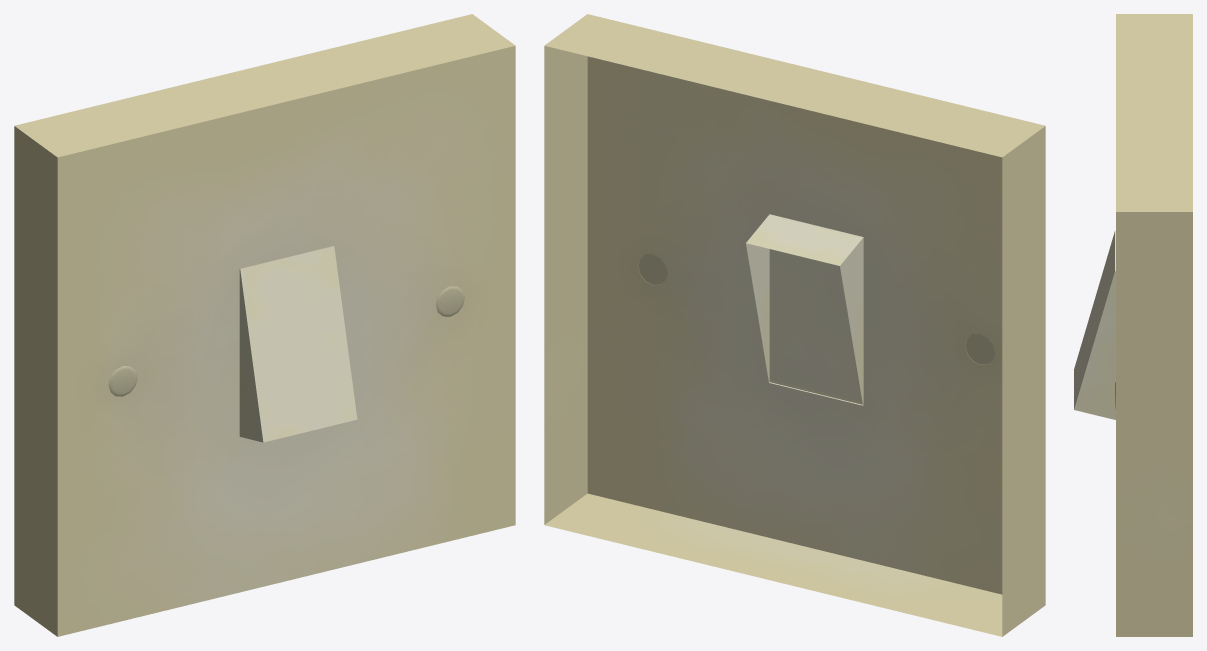
The model's file is light_switch.FBX.
The picture shows the model from 3 angles, left to right: view 1: azimuth 30°, elevation 25°; view 2: azimuth 150°, elevation 25°; view 3: azimuth 270°, elevation 25°; orthographic projection. The views are drawn at different scales.
Parts seen in each view (by area): view 1: light_switch, Object030; view 2: light_switch, Object030; view 3: light_switch, Object030.
Part boxes in pixels (left/top/right/bottom): light_switch: left=14, top=14, right=515, bottom=636; Object030: left=239, top=246, right=357, bottom=442; light_switch: left=544, top=14, right=1045, bottom=636; Object030: left=746, top=214, right=863, bottom=405; light_switch: left=1115, top=14, right=1192, bottom=636; Object030: left=1074, top=230, right=1115, bottom=419.
Bounding box in the file's own units: 14 × 14 × 3.55.
1 material, 1 textured.
